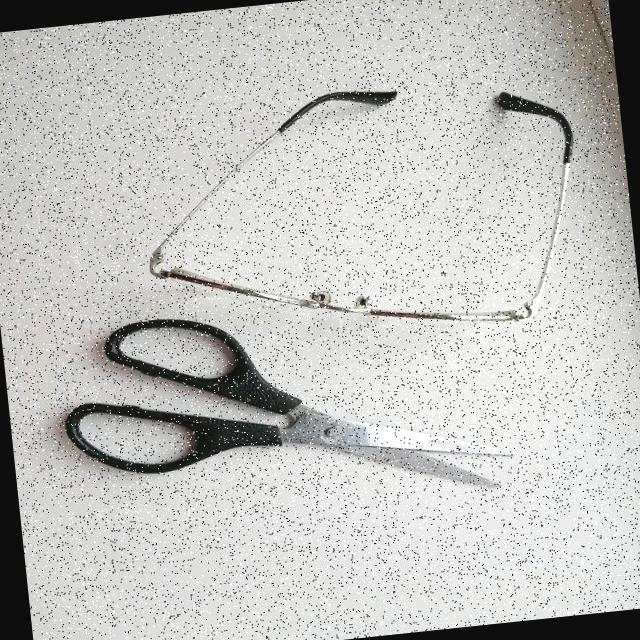scissors: (48, 293, 551, 521)
